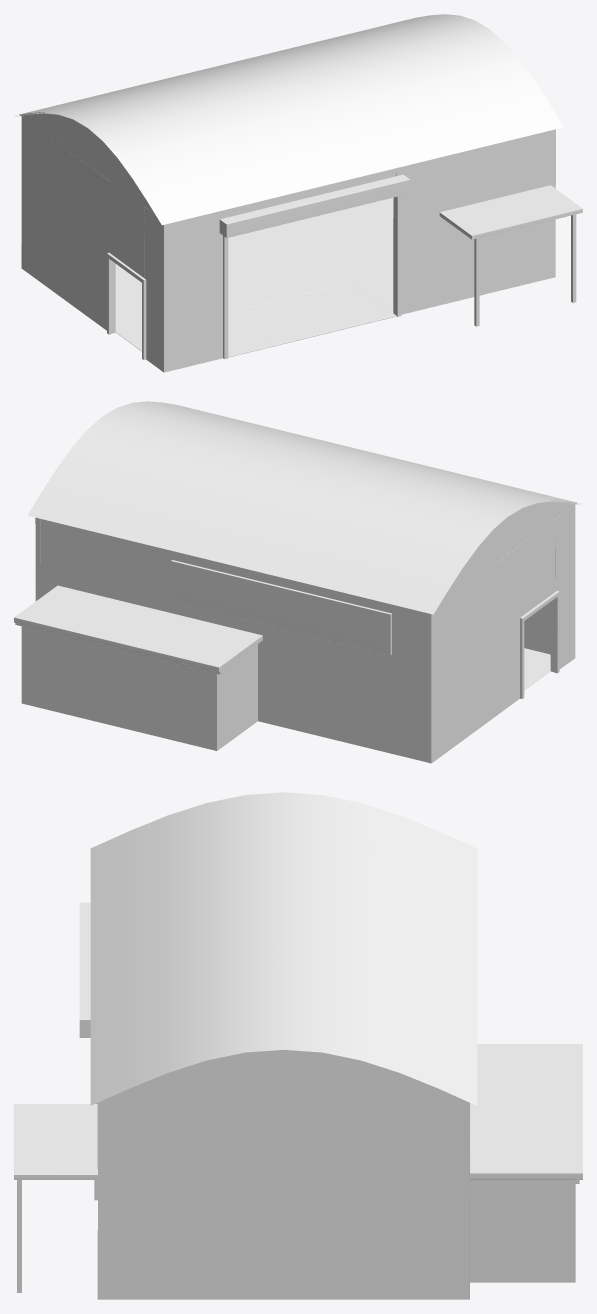
Rendered from export_terminal.glb.
3 renders of one model, top to bottom at view 1: azimuth 30°, elevation 25°; view 2: azimuth 150°, elevation 25°; view 3: azimuth 270°, elevation 25°, orthographic. The views are drawn at different scales.
Visible parts, largest first — view 1: ExportTerminal; view 2: ExportTerminal; view 3: ExportTerminal.
Part boxes in pixels (x1,y1,x2,y2): ExportTerminal: (15, 14, 582, 372); ExportTerminal: (14, 401, 580, 763); ExportTerminal: (14, 792, 582, 1299).
Bounding box in the file's own units: 16.6 × 7.7 × 15.6.
1 material, 1 textured.
